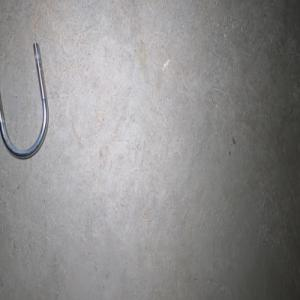ClampPart: (0, 41, 49, 160)
